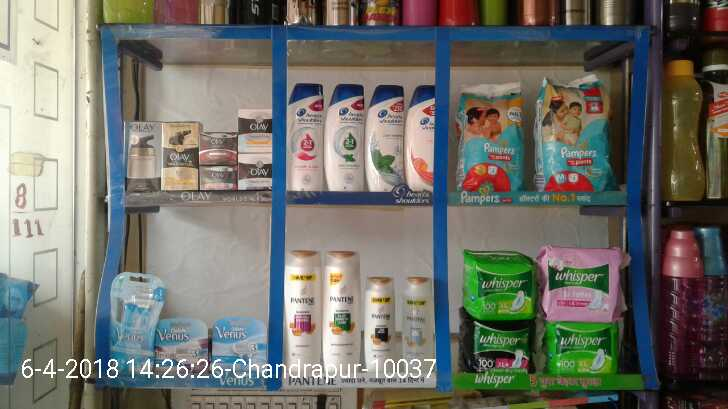venus: (107, 272, 158, 372), (212, 319, 268, 372), (159, 321, 209, 371)
